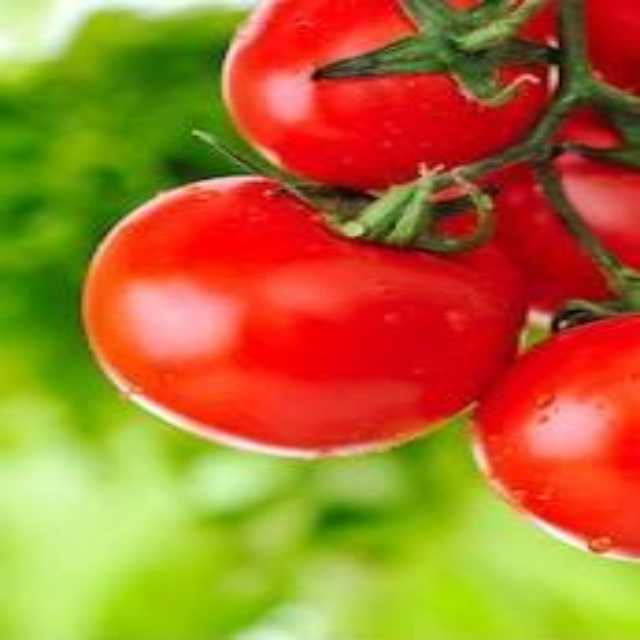tomato: (82, 171, 509, 459), (212, 2, 558, 188), (483, 333, 639, 556)
